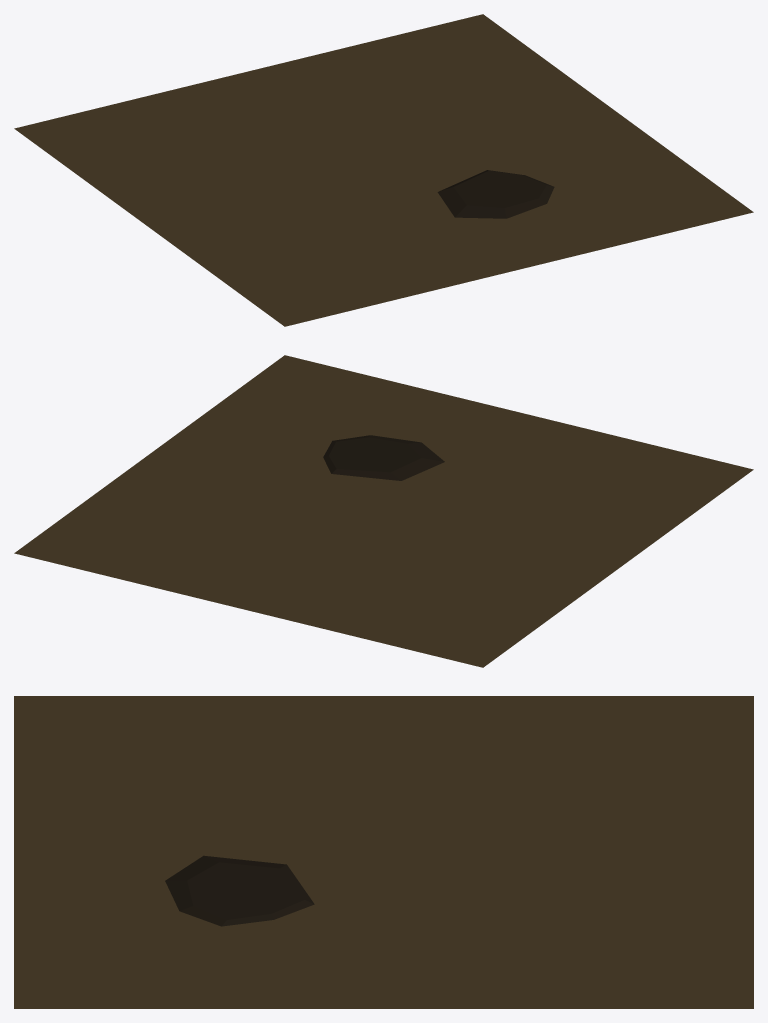
Rendered from Floor.008.fbx.
3 renders of one model, top to bottom at view 1: azimuth 30°, elevation 25°; view 2: azimuth 150°, elevation 25°; view 3: azimuth 270°, elevation 25°, orthographic. The views are drawn at different scales.
Visible parts, largest first — view 1: Floor.008; view 2: Floor.008; view 3: Floor.008.
Boxes of the visible parts, x1,y1,x2,y2 form: Floor.008: (14,14,753,326); Floor.008: (14,355,753,667); Floor.008: (14,696,753,1008).
Size of the model in its own units: 100 by 1.57 by 100.
